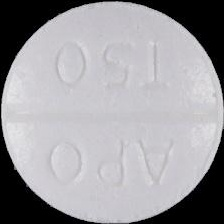60429-187: (0, 0, 224, 224)
